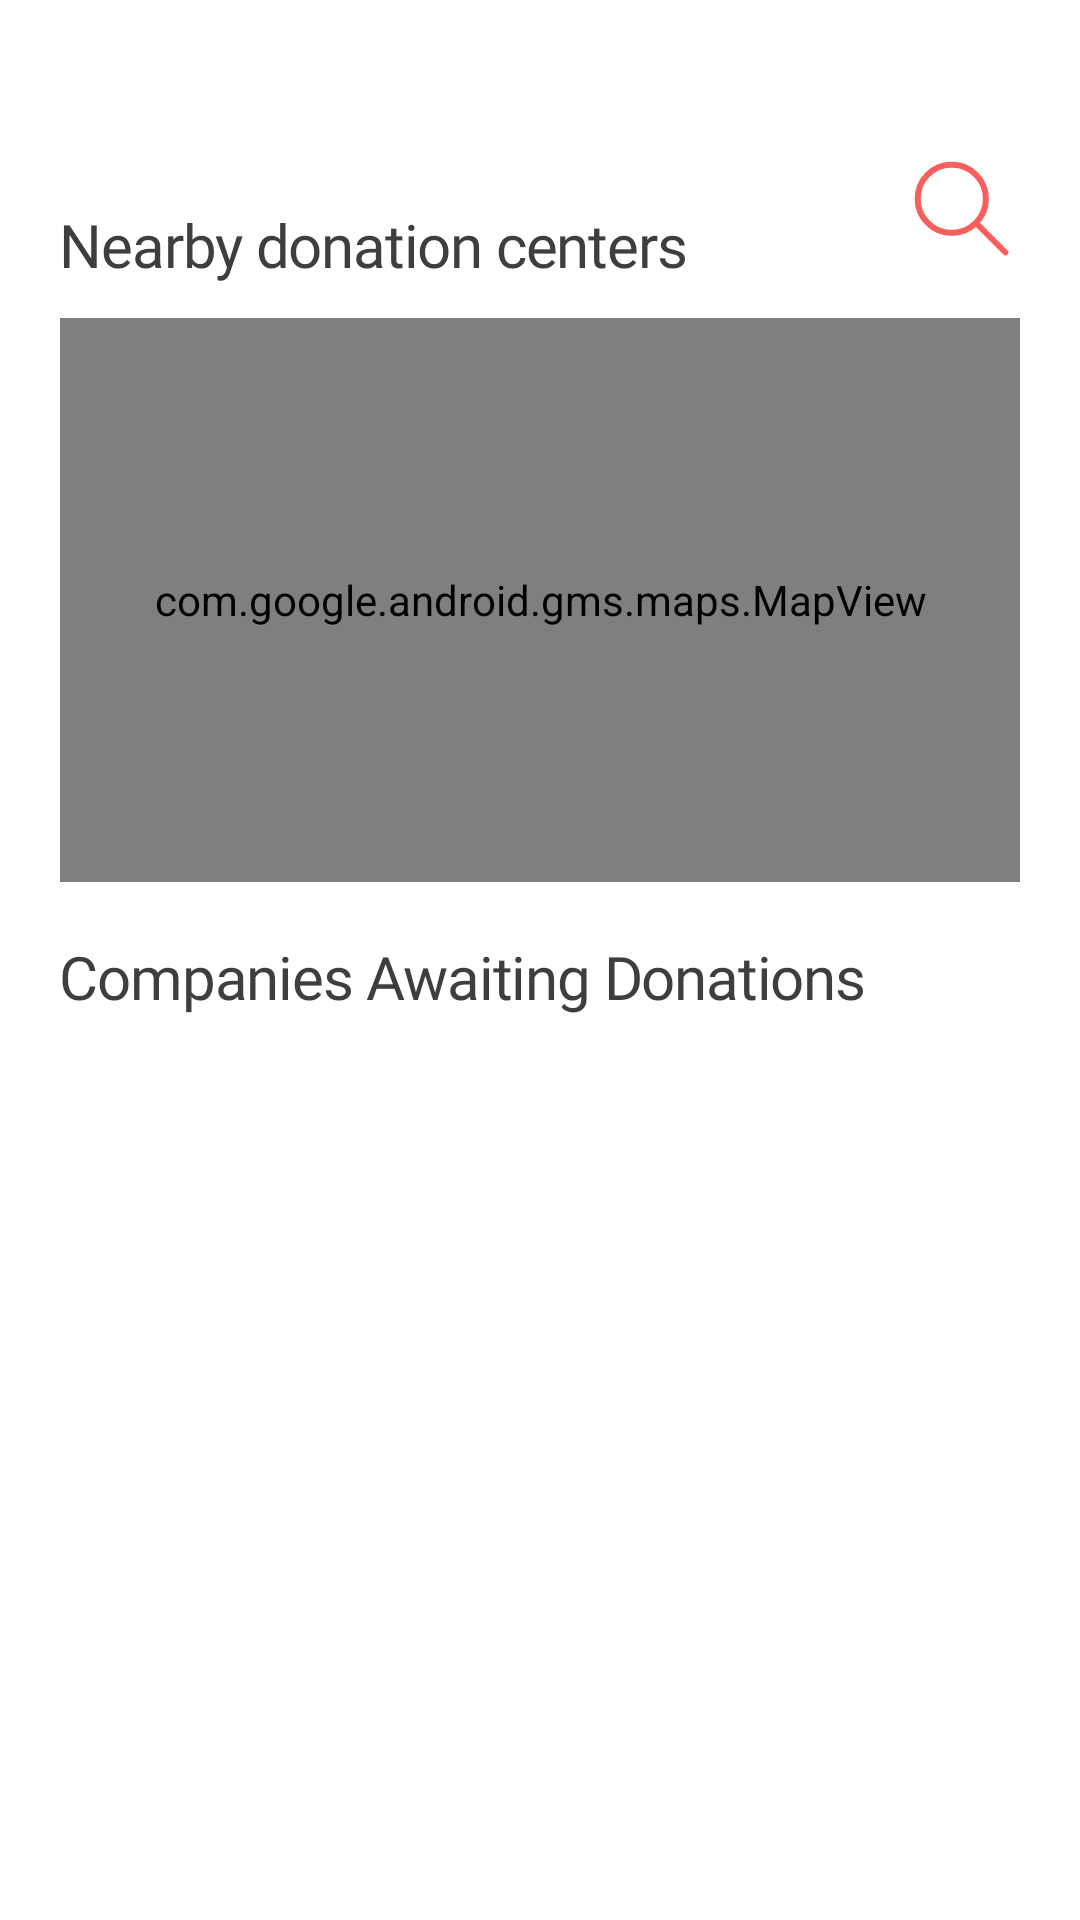

Icon bounding boxes for this 1080x1920 phone screenshot, format [left=x1, top=y1, right=x2, bottom=y2]:
기부 기업 검색: [left=914, top=161, right=1009, bottom=256]
